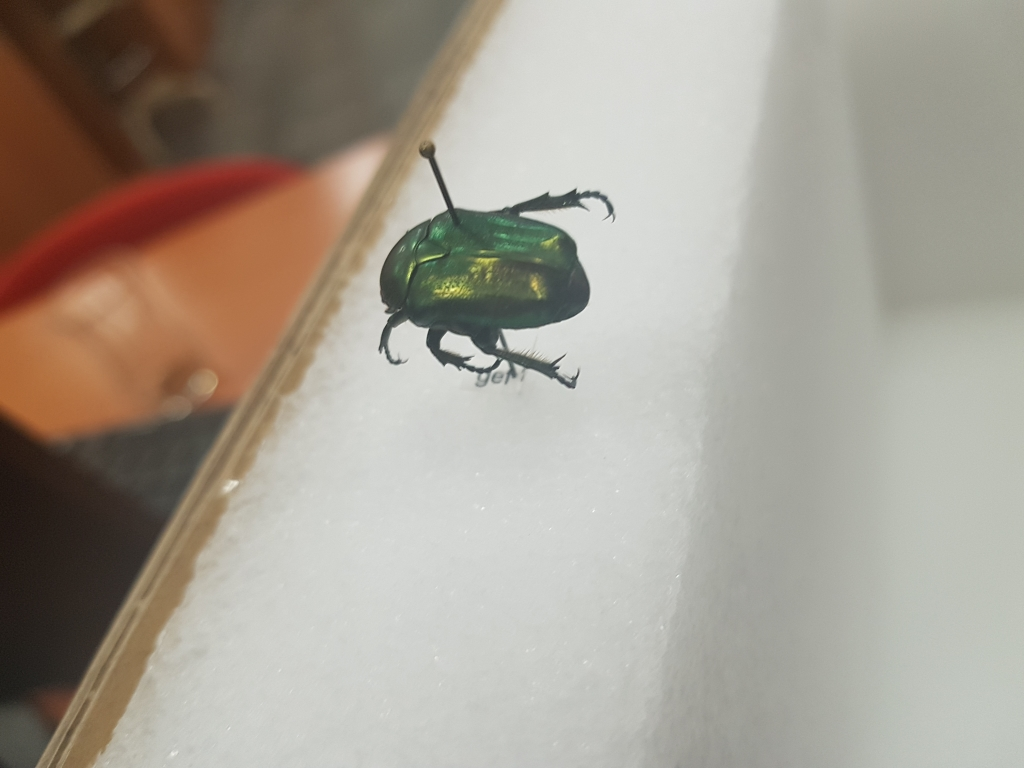Cetonia_aurata: (350, 171, 619, 395)
